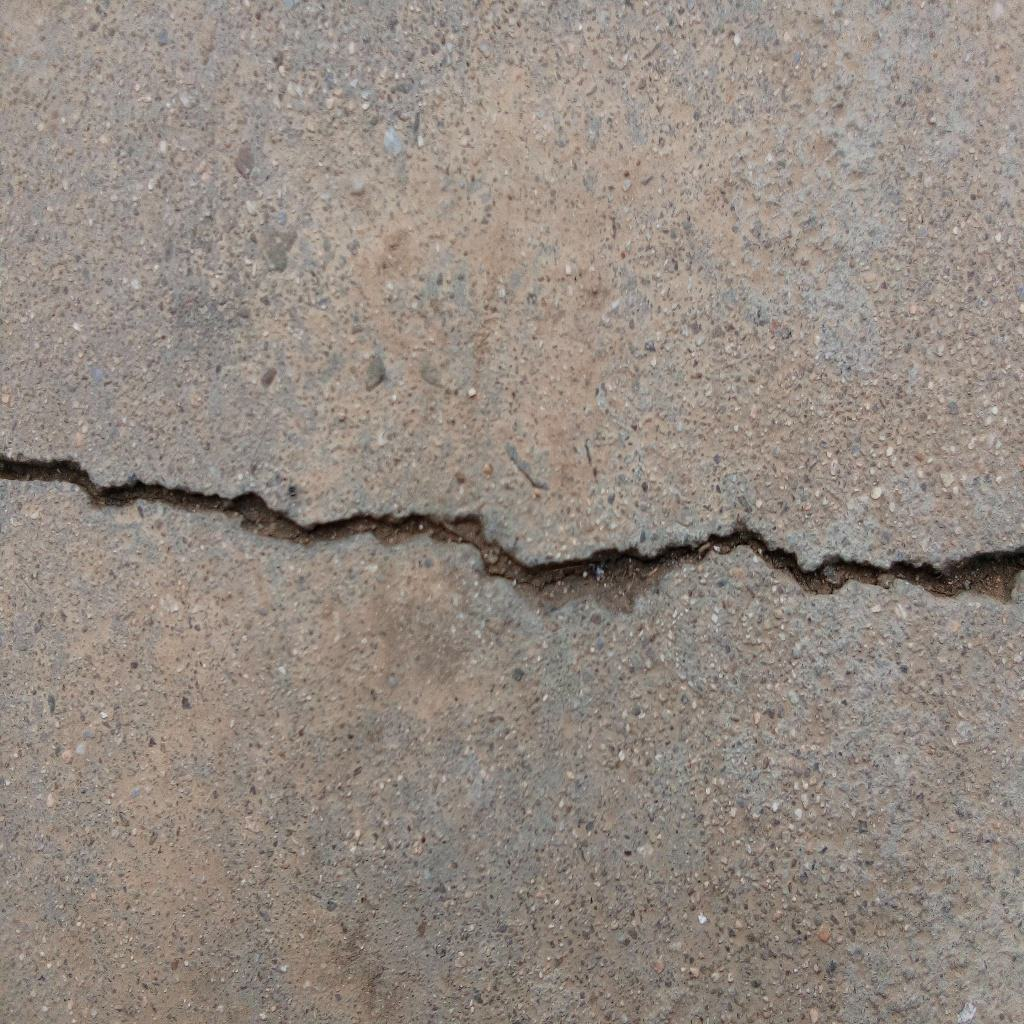Crack: (1, 454, 1024, 621)
